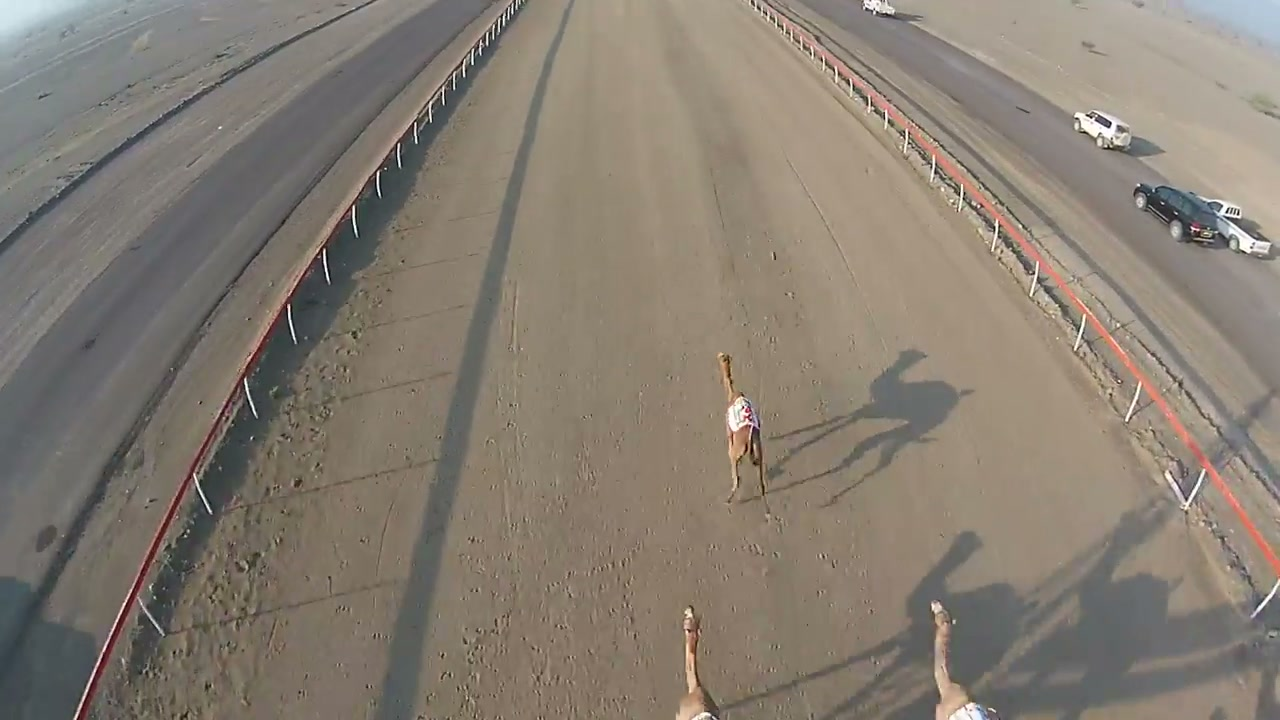animal_foot_print: (711, 513, 837, 719)
